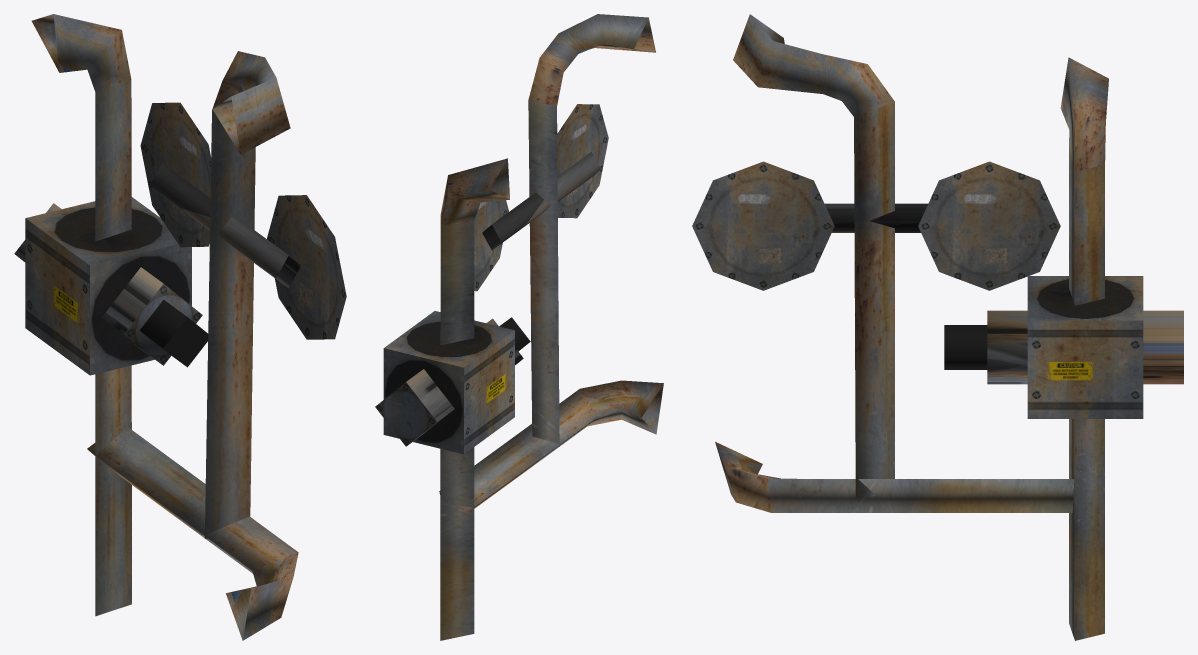
Rendered from p6_water_pipe_01_lod3.glb.
3 views of the same model, side by side, from view 1: azimuth 30°, elevation 25°; view 2: azimuth 150°, elevation 25°; view 3: azimuth 270°, elevation 25° (orthographic). The views are drawn at different scales.
Parts seen in each view (by area): view 1: surf0, surf1; view 2: surf0; view 3: surf0, surf1.
Boxes of the visible parts, box(x1,y1,x2,y2) form: surf0: box(14, 14, 346, 640); surf1: box(139, 299, 208, 367); surf0: box(375, 14, 663, 640); surf0: box(692, 14, 1183, 640); surf1: box(944, 325, 987, 369).
Bounding box in the file's own units: 8.93 × 48.67 × 36.71.
